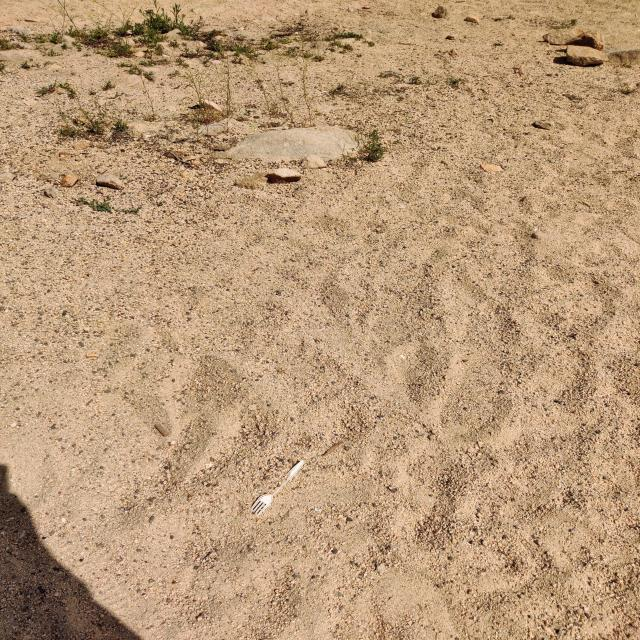litter: (251, 460, 310, 516)
